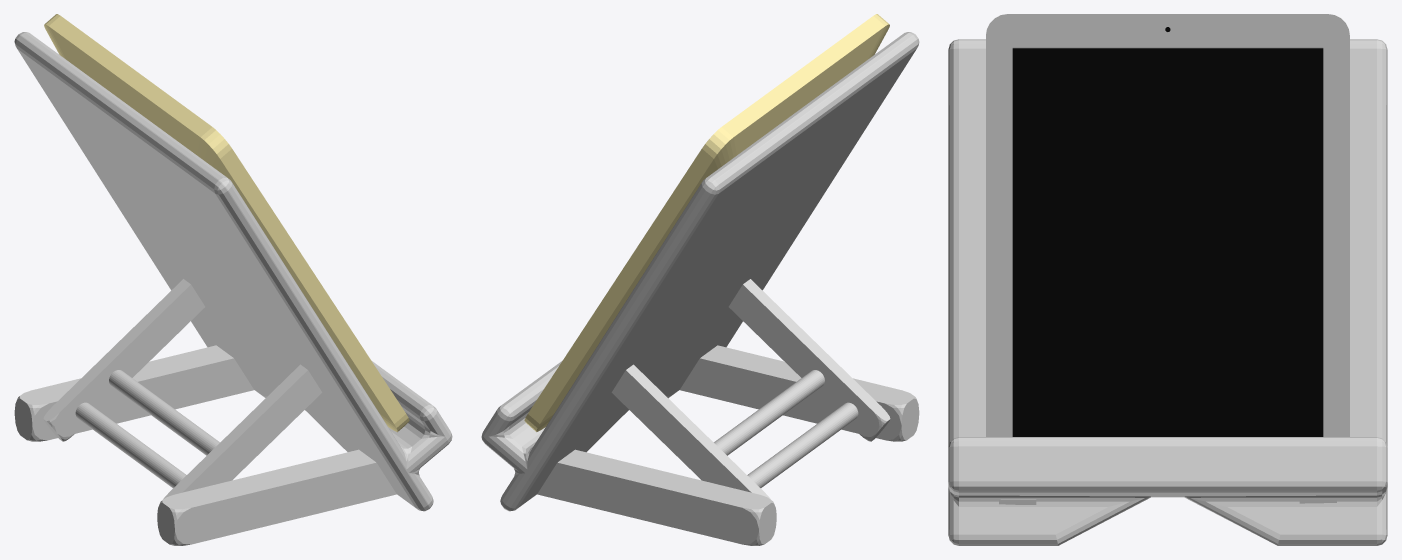
File: TabletS.fbx
3 views of the same model, side by side, from view 1: azimuth 30°, elevation 25°; view 2: azimuth 150°, elevation 25°; view 3: azimuth 270°, elevation 25° (orthographic). The views are drawn at different scales.
Parts seen in each view (by area): view 1: Plane, Tablet; view 2: Plane, Tablet; view 3: Tablet, Plane.
Boxes of the visible parts, x1,y1,x2,y2 form: Plane: (14, 32, 452, 545); Tablet: (44, 14, 409, 432); Plane: (481, 32, 919, 545); Tablet: (524, 14, 889, 431); Tablet: (986, 14, 1349, 436); Plane: (948, 39, 1387, 545).
Size of the model in its own units: 16.34 by 25.02 by 22.91.
